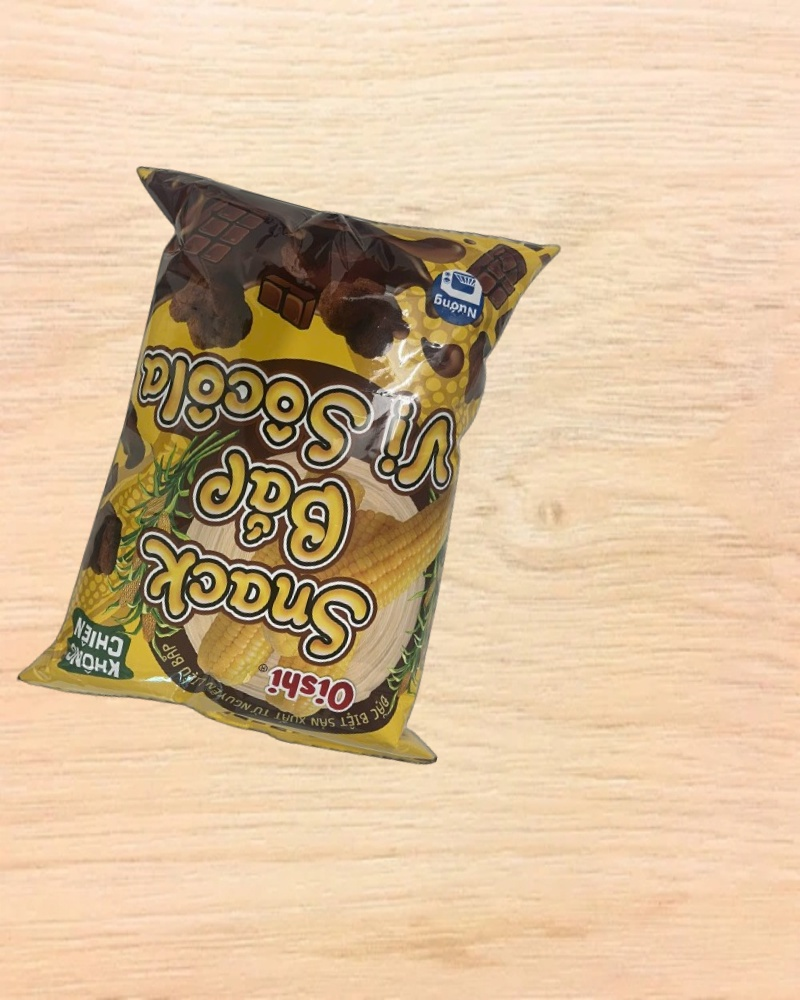Snack socola: (3, 139, 572, 790)
